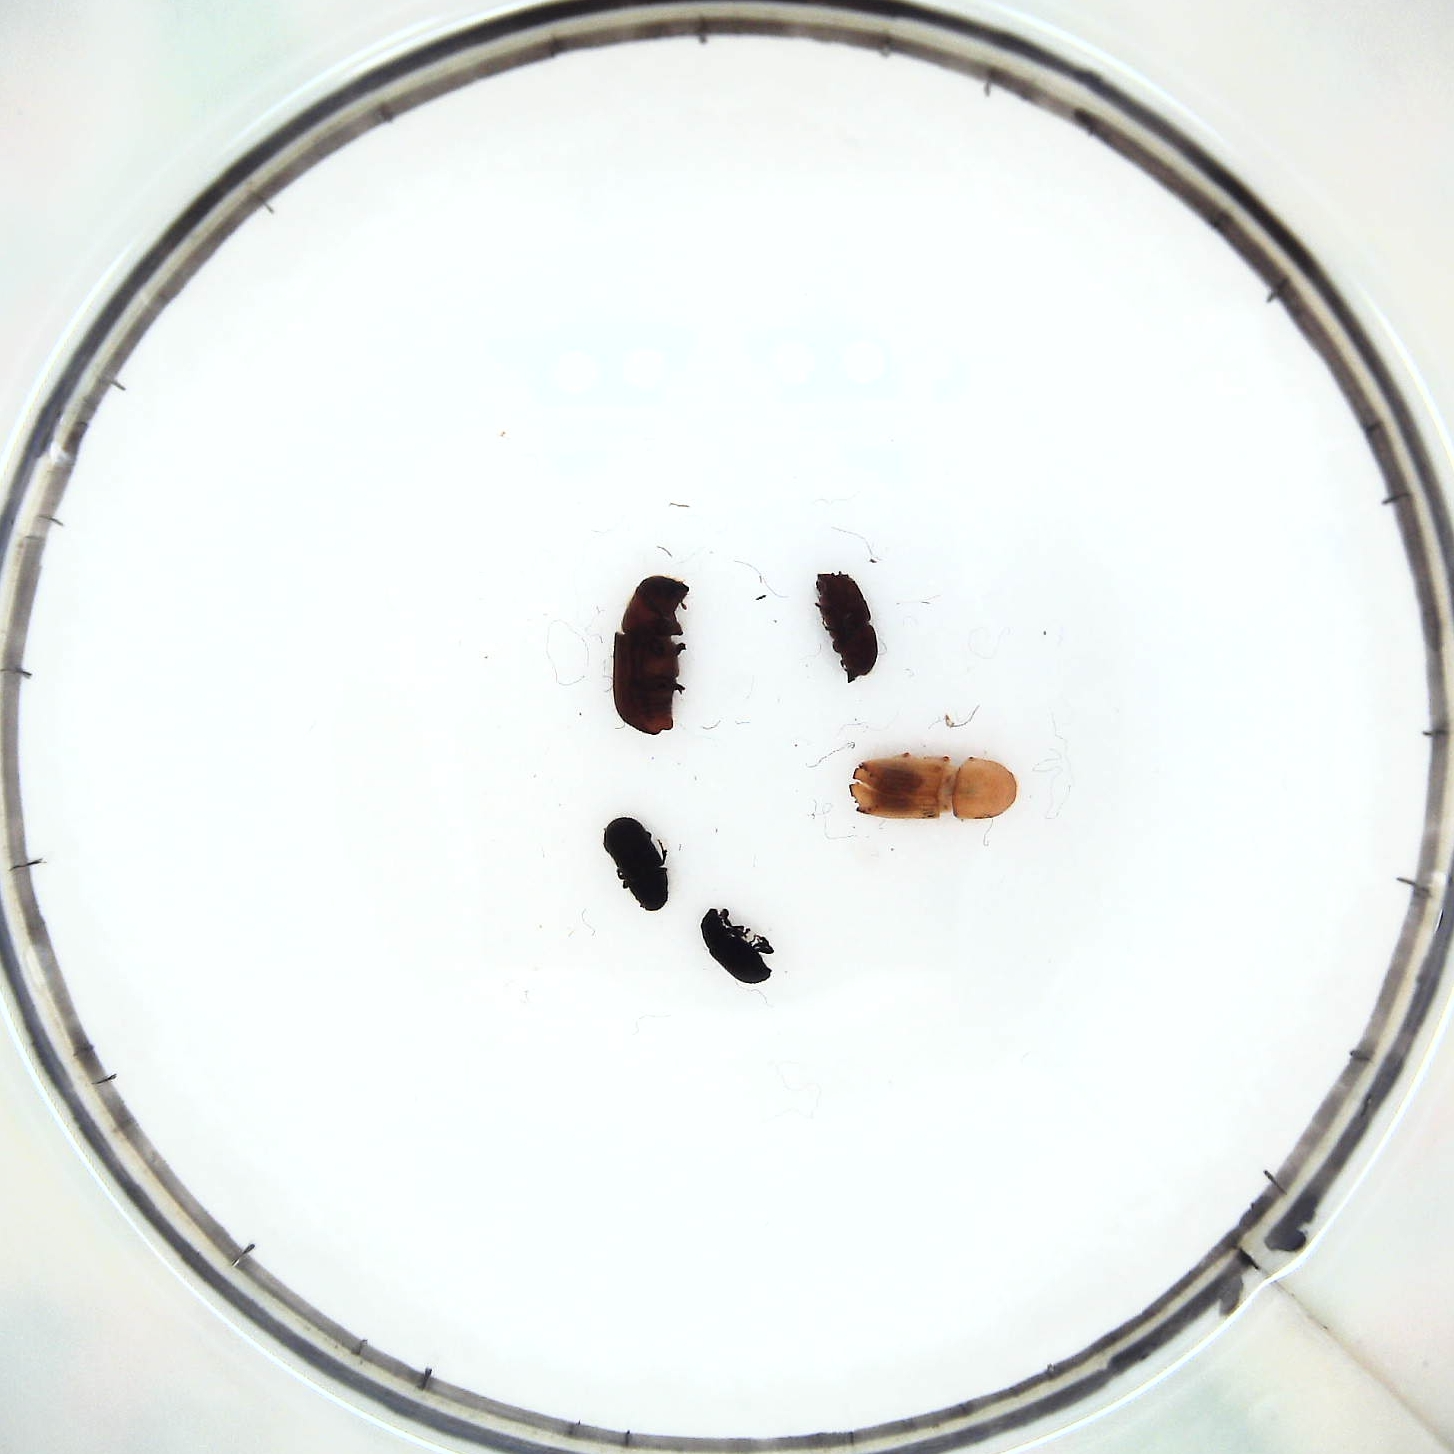Boerner: (848, 756, 1021, 822)
Leconte: (612, 573, 686, 739)
Linnaeus: (810, 570, 880, 680)
armandi: (601, 814, 672, 916)
coleoptera: (700, 904, 776, 989)
